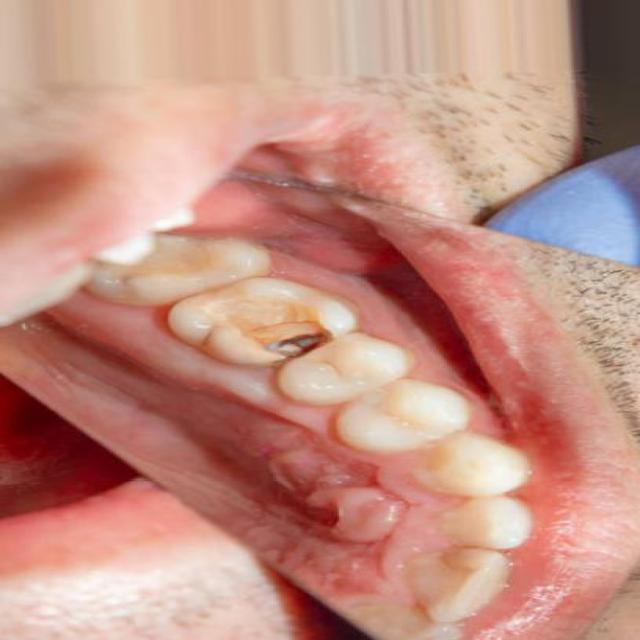caries: (147, 237, 343, 362)
